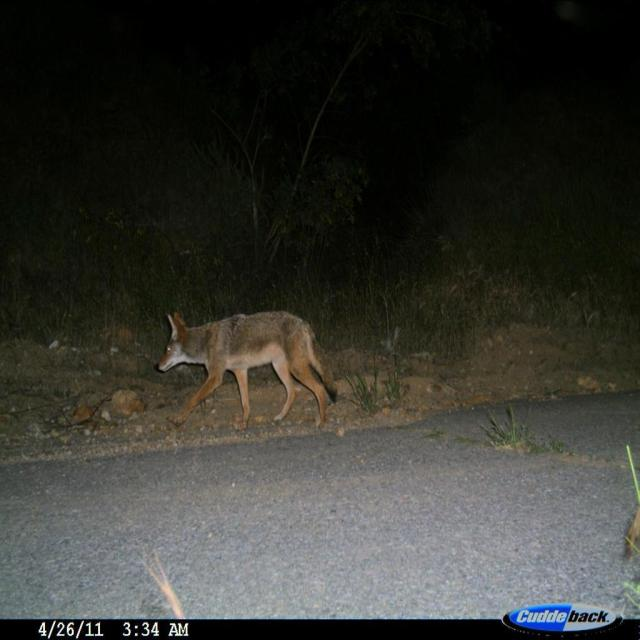coyote: (152, 306, 343, 434)
